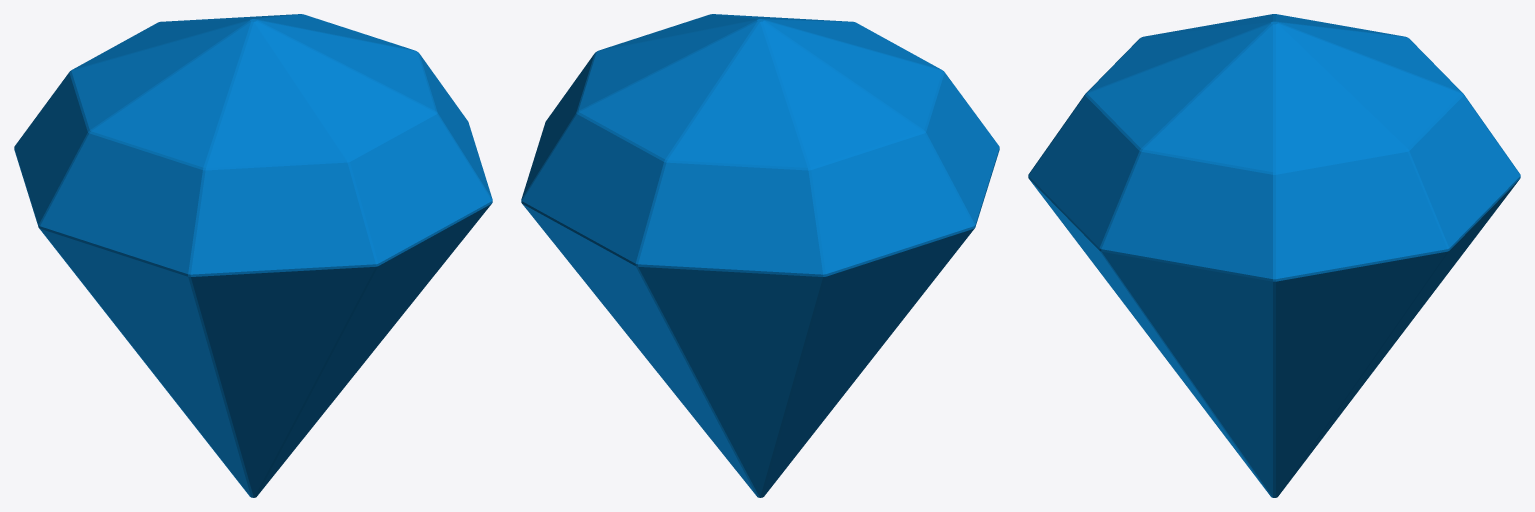
The model's file is Gem_Blue.fbx.
3 renders of one model, left to right at view 1: azimuth 30°, elevation 25°; view 2: azimuth 150°, elevation 25°; view 3: azimuth 270°, elevation 25°, orthographic.
Visible parts, largest first — view 1: Diamond; view 2: Diamond; view 3: Diamond.
Part boxes in pixels (bbox=[...]): Diamond: bbox=[14, 14, 492, 497]; Diamond: bbox=[521, 14, 999, 497]; Diamond: bbox=[1028, 14, 1520, 497].
Bounding box in the file's own units: 92.88 × 98.62 × 92.88.
